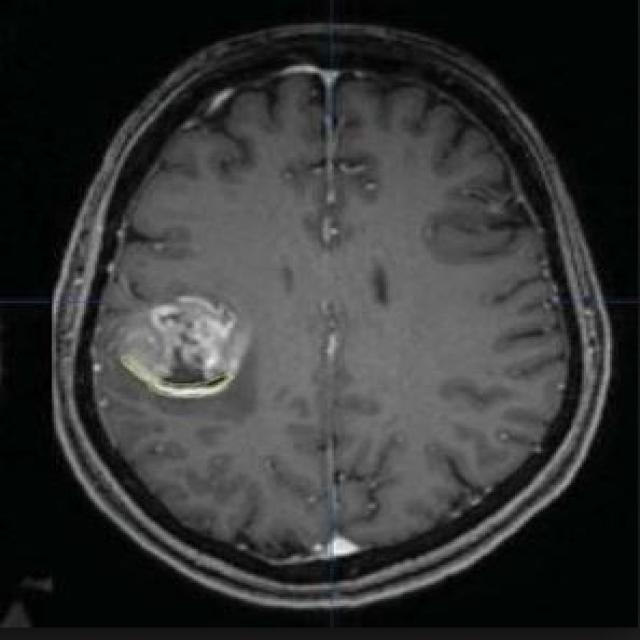Tumor-Cell: (87, 264, 264, 413)
